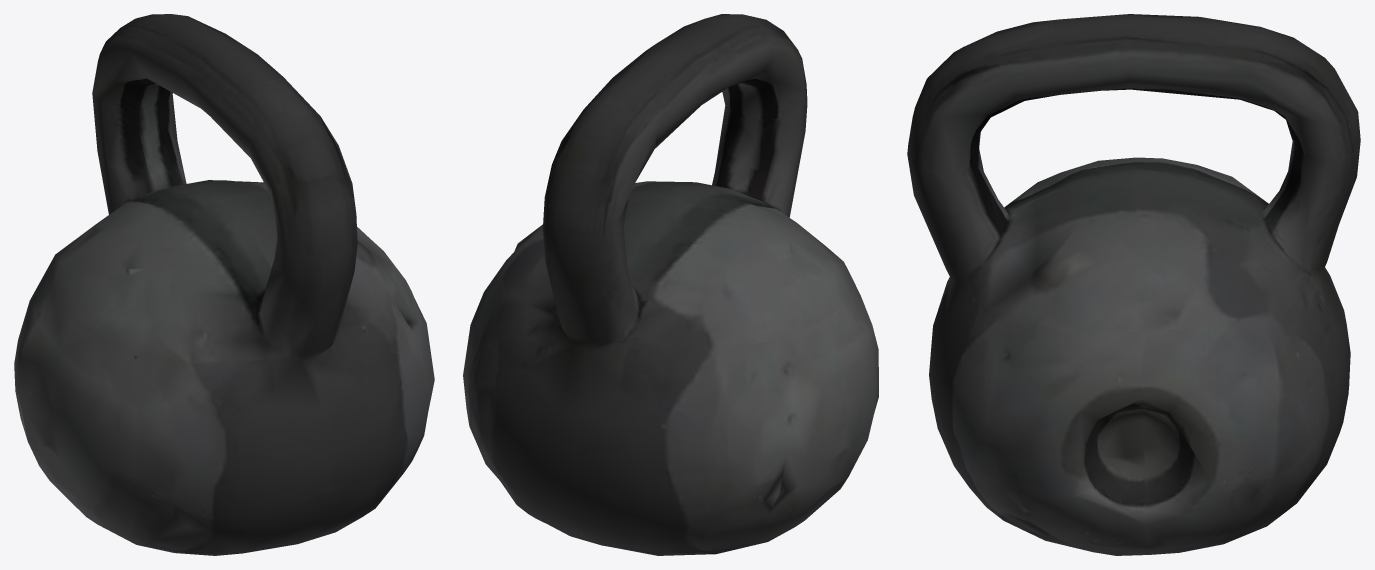
The model's file is kettlebell.glb.
The picture shows the model from 3 angles, left to right: view 1: azimuth 30°, elevation 25°; view 2: azimuth 150°, elevation 25°; view 3: azimuth 270°, elevation 25°; orthographic projection. The views are drawn at different scales.
Parts seen in each view (by area): view 1: tripo_node_b50cba7d-bf50-45b8-bd1b-158b7821e92e; view 2: tripo_node_b50cba7d-bf50-45b8-bd1b-158b7821e92e; view 3: tripo_node_b50cba7d-bf50-45b8-bd1b-158b7821e92e.
Part boxes in pixels (box(x1,y1,x2,y2)): tripo_node_b50cba7d-bf50-45b8-bd1b-158b7821e92e: box(14, 14, 434, 555); tripo_node_b50cba7d-bf50-45b8-bd1b-158b7821e92e: box(463, 14, 878, 555); tripo_node_b50cba7d-bf50-45b8-bd1b-158b7821e92e: box(907, 14, 1360, 555).
Bounding box in the file's own units: 0.772 × 0.9993 × 0.8421.
Materials: 1 (1 with a texture image).
